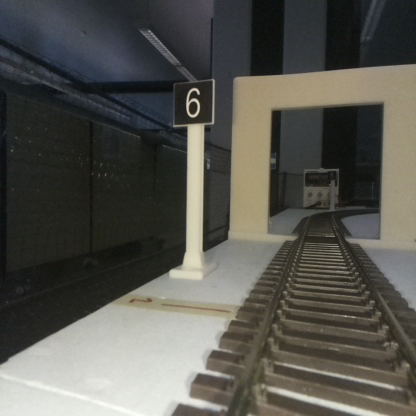black-info-6: (174, 82, 211, 278)
